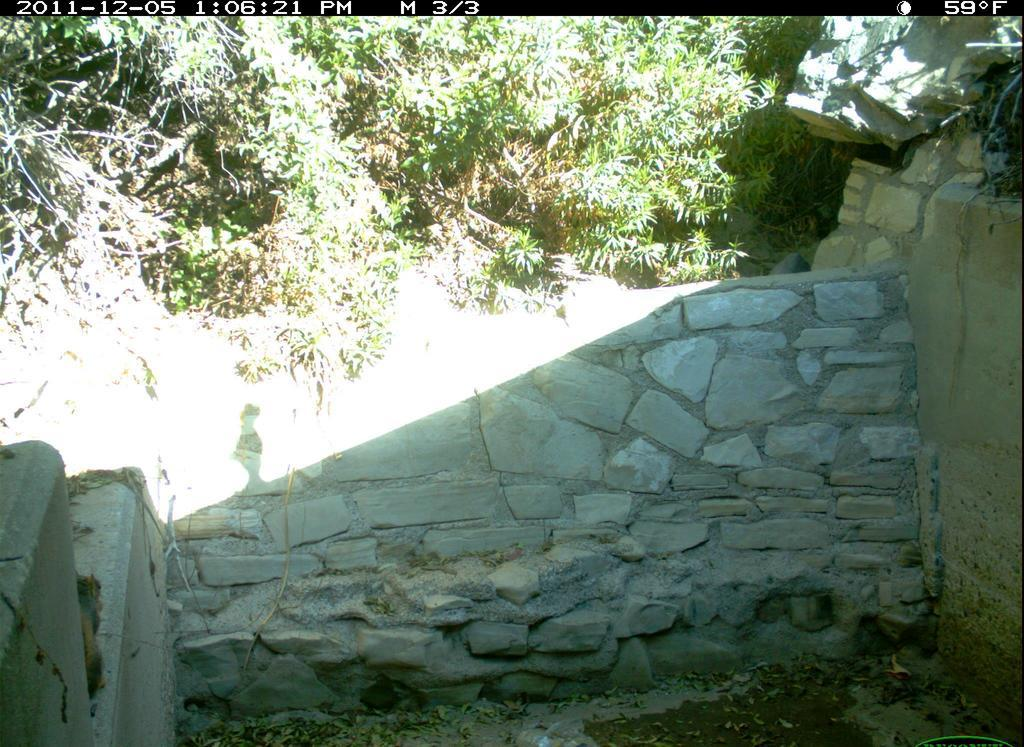squirrel: (67, 566, 125, 716)
